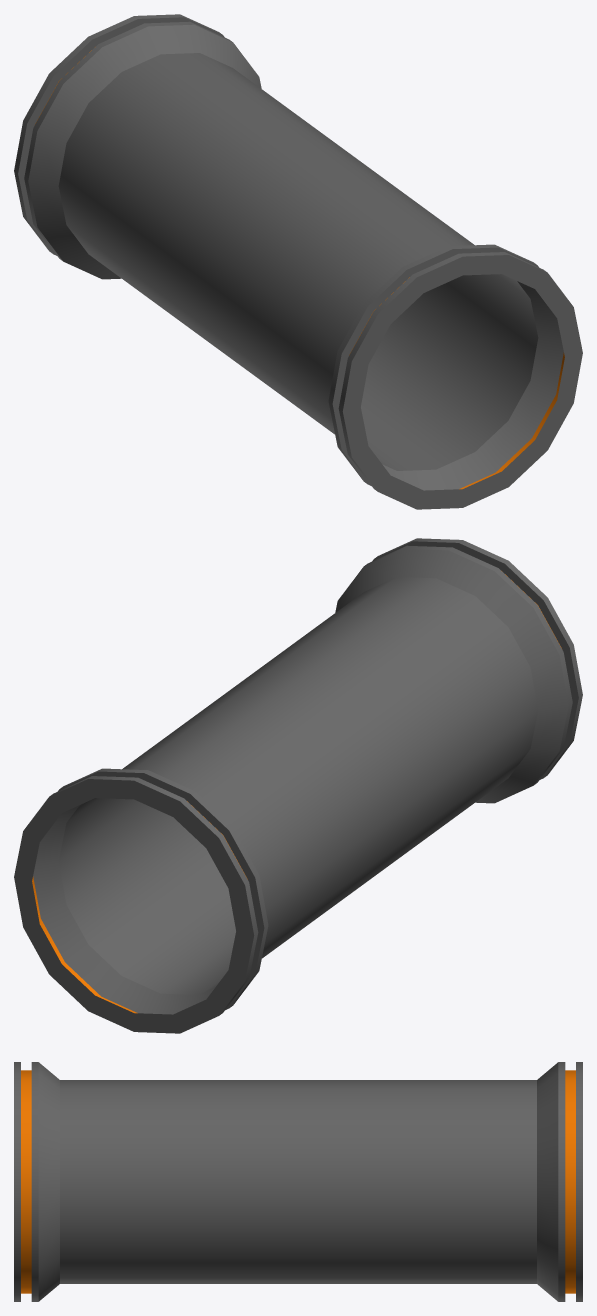
File: Pipe_Short_1.fbx
3 renders of one model, top to bottom at view 1: azimuth 30°, elevation 25°; view 2: azimuth 150°, elevation 25°; view 3: azimuth 270°, elevation 25°, orthographic. The views are drawn at different scales.
Visible parts, largest first — view 1: Pipe_1.003; view 2: Pipe_1.003; view 3: Pipe_1.003.
Boxes of the visible parts, x1,y1,x2,y2 form: Pipe_1.003: (14,14,582,509); Pipe_1.003: (14,538,582,1033); Pipe_1.003: (14,1062,582,1301).
Size of the model in its own units: 63.29 by 63.29 by 150.
